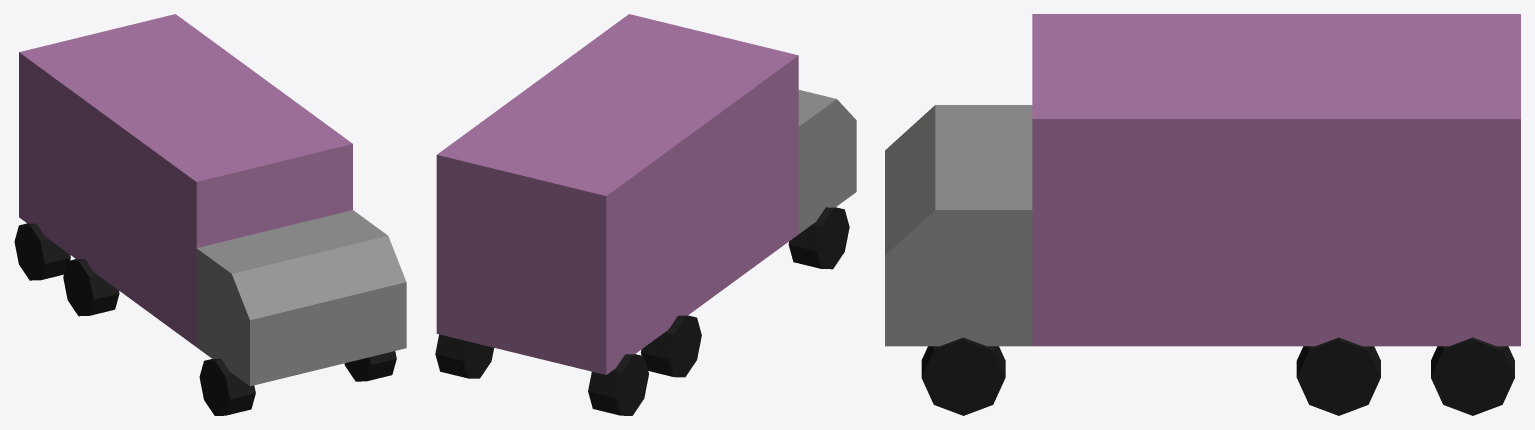
The model's file is Supermarket_Lorry.fbx.
The picture shows the model from 3 angles, left to right: view 1: azimuth 30°, elevation 25°; view 2: azimuth 150°, elevation 25°; view 3: azimuth 270°, elevation 25°; orthographic projection. The views are drawn at different scales.
Parts seen in each view (by area): view 1: SuperMarket_Lorry; view 2: SuperMarket_Lorry; view 3: SuperMarket_Lorry.
Part boxes in pixels (x1,y1,x2,y2): SuperMarket_Lorry: (14,14,406,415); SuperMarket_Lorry: (435,14,856,415); SuperMarket_Lorry: (885,14,1520,415).
Size of the model in its own units: 14.35 by 17.58 by 34.41.
